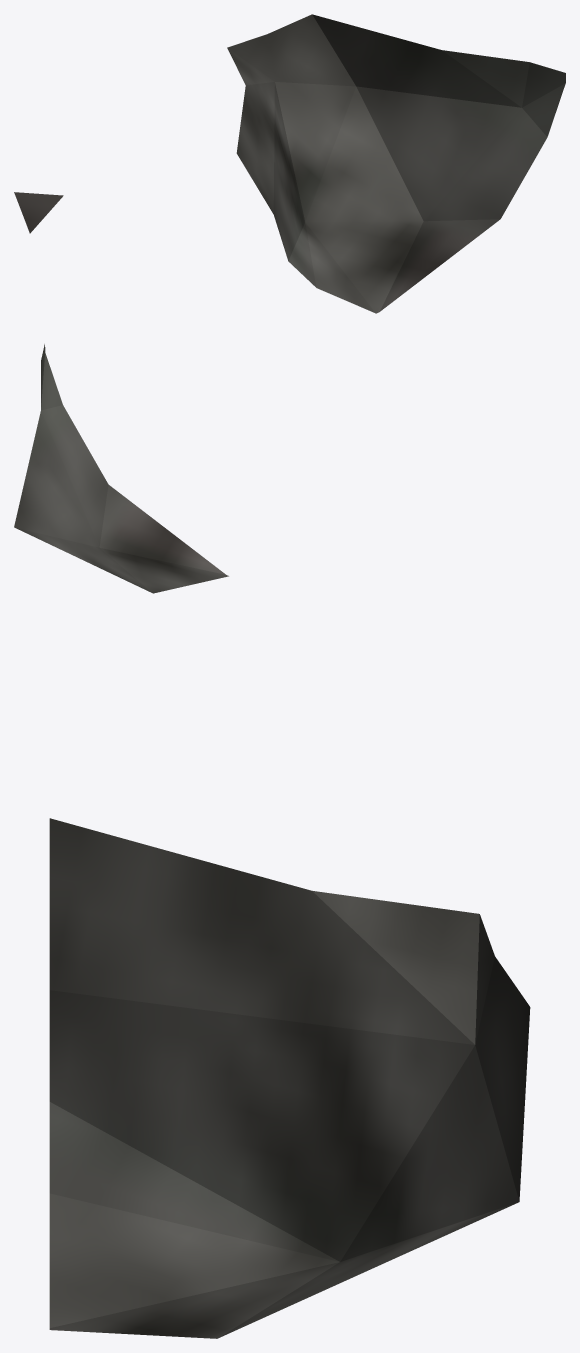
3 renders of one model, top to bottom at view 1: azimuth 30°, elevation 25°; view 2: azimuth 150°, elevation 25°; view 3: azimuth 270°, elevation 25°, orthographic. The views are drawn at different scales.
Size of the model in its own units: 0.9417 by 0.3263 by 0.3762.
Materials: 1 (1 with a texture image).
